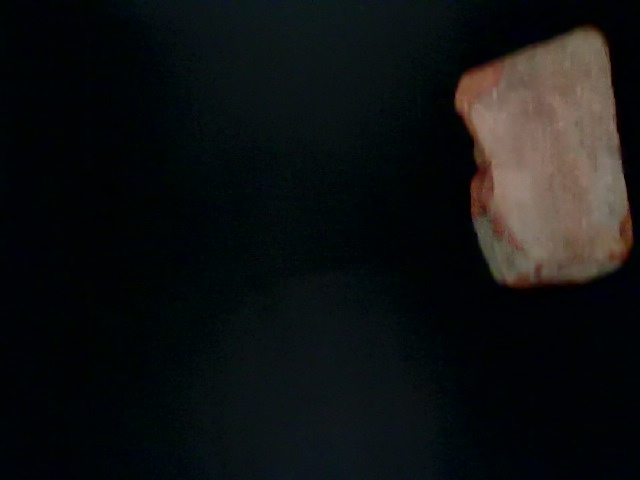KHSLJ: (1, 160, 300, 471)
